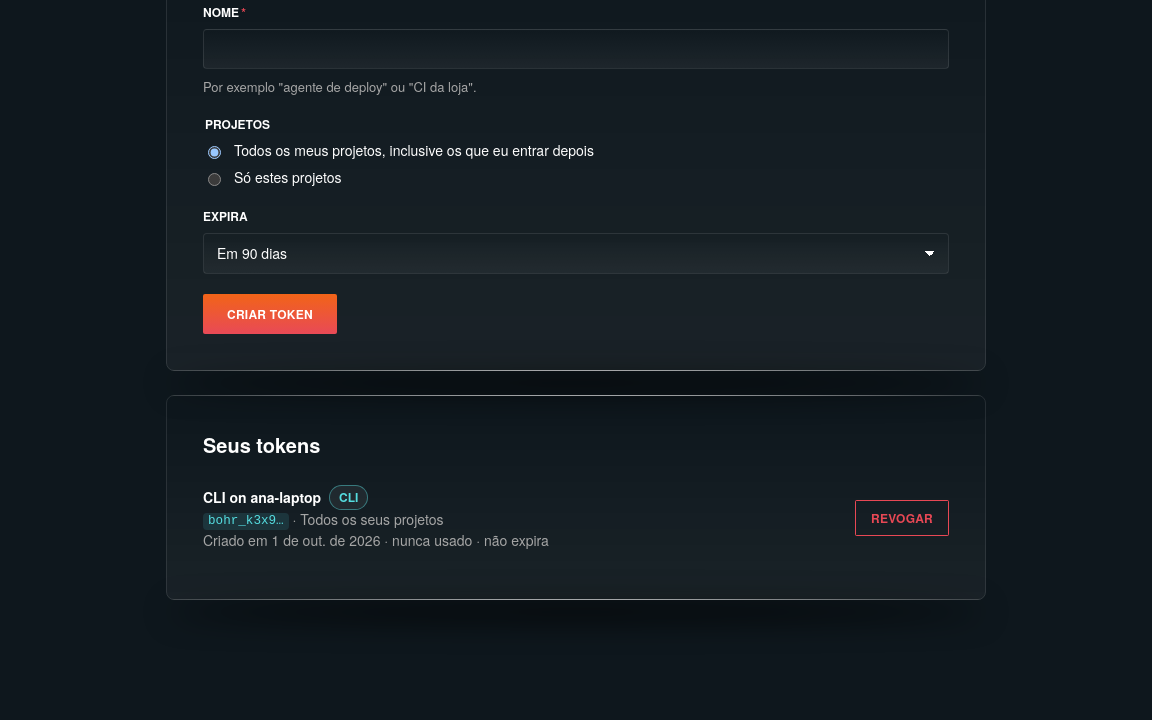
Test: account tokens › revokes a token after asking
The width and height of the screenshot is (1152, 720).
(page scrolled)
Click the button "Revogar". click: click(902, 518)
box: [855,500,949,536]
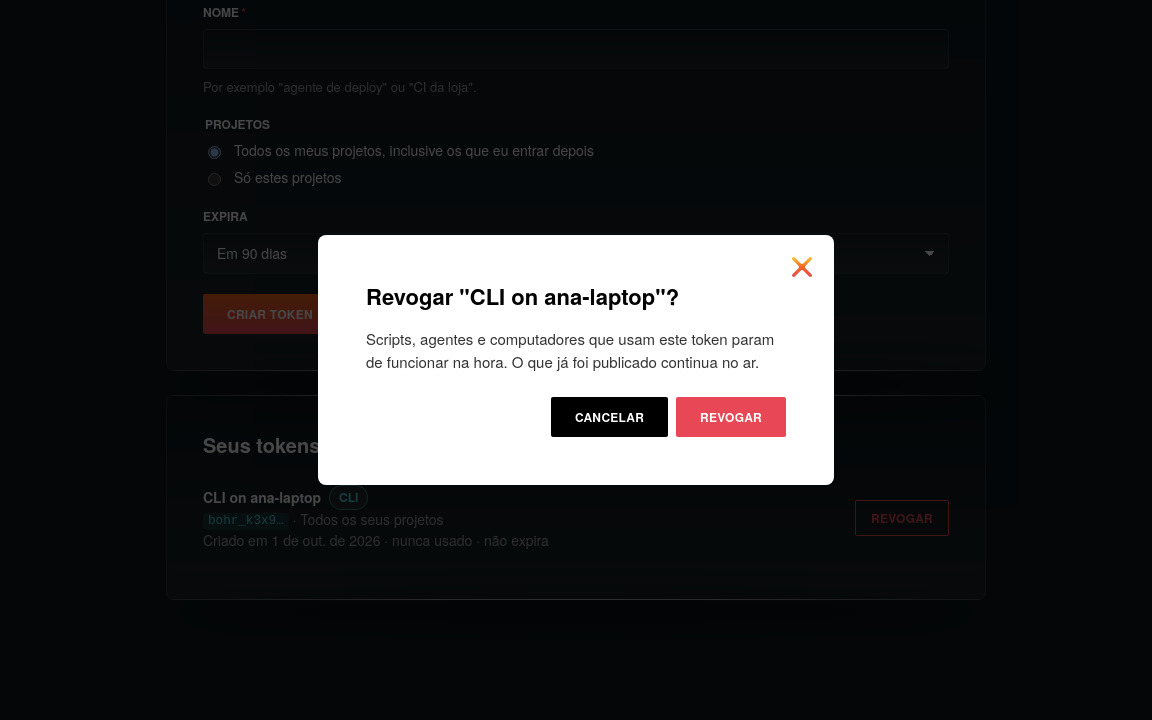
Expected: the text "Revogar \"CLI on ana-laptop\"?" is shown, [366,280,679,312]
Click the button "Revogar". click: click(731, 417)
box: [676,397,786,437]
(page scrolled)
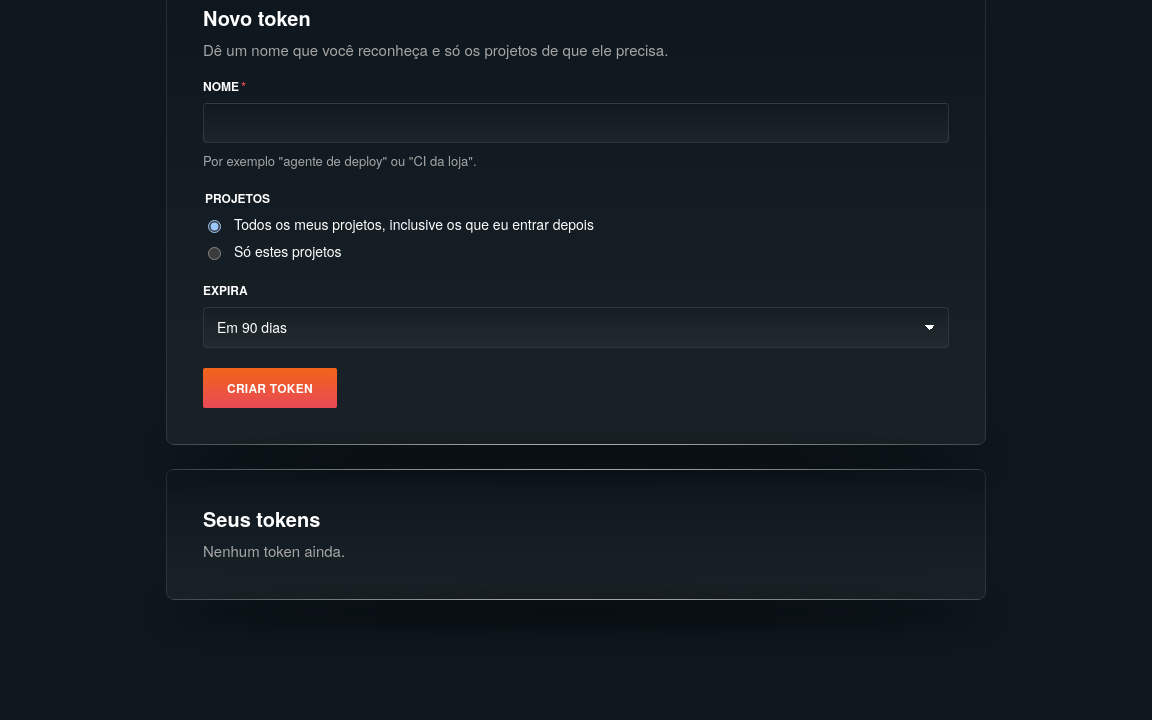
Expected: the text "Nenhum token ainda." is shown, [203,540,345,561]
